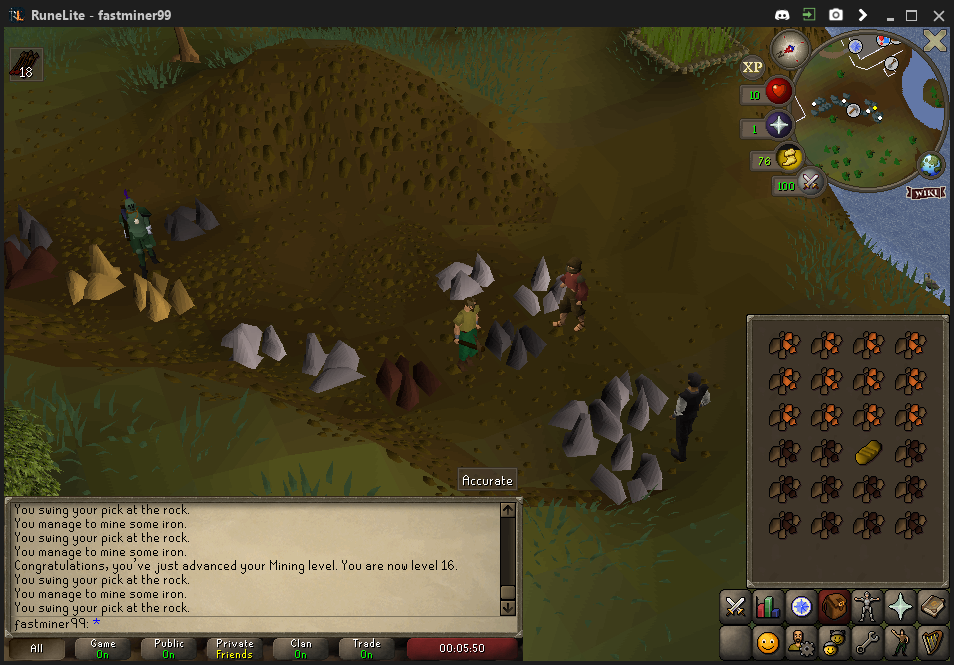depleted: (1, 206, 62, 255), (486, 317, 545, 365), (161, 201, 224, 241)
ore: (375, 351, 436, 412), (2, 245, 61, 288)
